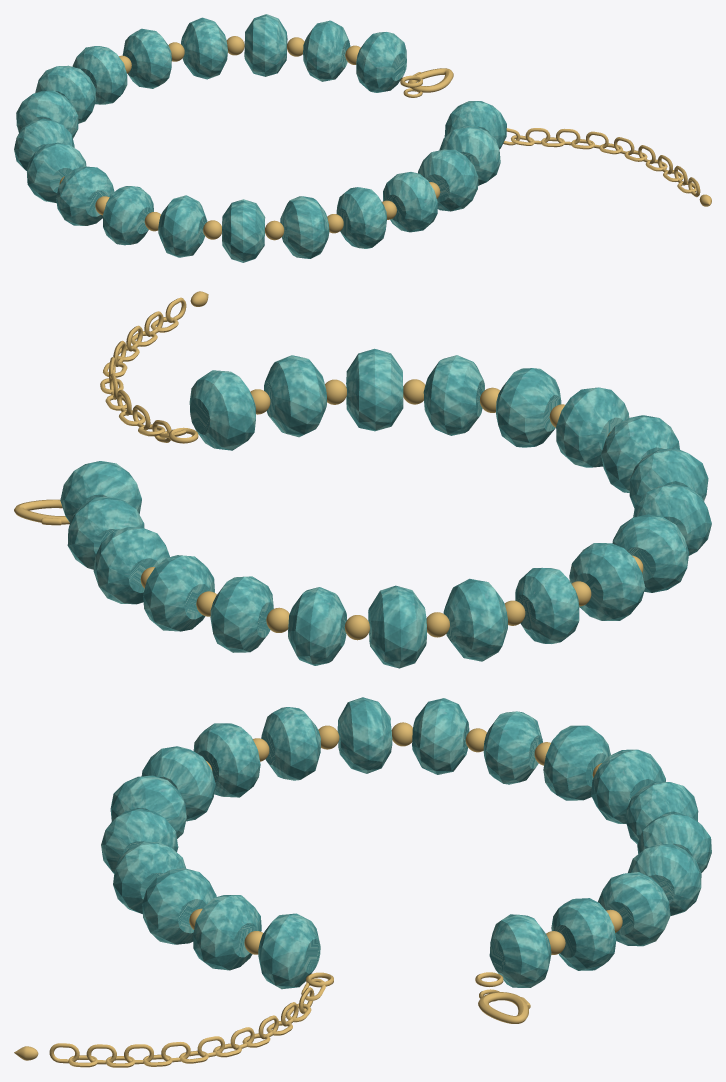
The model's file is standard.glb.
The picture shows the model from 3 angles, top to bottom: view 1: azimuth 30°, elevation 25°; view 2: azimuth 150°, elevation 25°; view 3: azimuth 270°, elevation 25°; orthographic projection. The views are drawn at different scales.
Parts seen in each view (by area): view 1: facet_rondel_2.003, facet_rondel_0, facet_rondel_0.002, facet_rondel_1.003, facet_rondel_0.003, facet_rondel_4.002, facet_rondel_2.002, facet_rondel_1.002, facet_rondel_3.002, facet_rondel_4, facet_rondel_3, facet_rondel_2 (+9 smaller); view 2: facet_rondel_4.003, facet_rondel_4.001, facet_rondel_2.001, facet_rondel_3, facet_rondel_0.003, facet_rondel_2, facet_rondel_4.002, facet_rondel_3.003, facet_rondel_2.003, facet_rondel_1.001, facet_rondel_0.002, facet_rondel_3.001 (+9 smaller); view 3: facet_rondel_2.003, facet_rondel_3.003, facet_rondel_2, facet_rondel_4.003, facet_rondel_2.001, facet_rondel_0, facet_rondel_1, facet_rondel_2.002, facet_rondel_4.001, facet_rondel_1.002, facet_rondel_0.002, facet_rondel_3.001 (+9 smaller).
Boxes of the visible parts, bbox=[...] form: facet_rondel_2.003: bbox=[418, 149, 478, 211]; facet_rondel_0: bbox=[356, 32, 406, 92]; facet_rondel_0.002: bbox=[56, 166, 114, 225]; facet_rondel_1.003: bbox=[382, 172, 437, 232]; facet_rondel_0.003: bbox=[336, 187, 386, 248]; facet_rondel_4.002: bbox=[280, 196, 329, 258]; facet_rondel_2.002: bbox=[158, 195, 207, 257]; facet_rondel_1.002: bbox=[102, 186, 153, 245]; facet_rondel_3.002: bbox=[222, 199, 265, 262]; facet_rondel_4: bbox=[122, 28, 171, 88]; facet_rondel_3: bbox=[181, 17, 227, 79]; facet_rondel_2: bbox=[244, 14, 287, 76]; facet_rondel_4.003: bbox=[189, 370, 255, 450]; facet_rondel_4.001: bbox=[569, 543, 645, 620]; facet_rondel_2.001: bbox=[443, 578, 507, 661]; facet_rondel_3: bbox=[143, 555, 214, 631]; facet_rondel_0.003: bbox=[496, 368, 561, 447]; facet_rondel_2: bbox=[93, 527, 169, 604]; facet_rondel_4.002: bbox=[556, 387, 629, 467]; facet_rondel_3.003: bbox=[264, 355, 326, 437]; facet_rondel_2.003: bbox=[346, 348, 403, 431]; facet_rondel_1.001: bbox=[368, 585, 426, 668]; facet_rondel_0.002: bbox=[612, 514, 689, 592]; facet_rondel_3.001: bbox=[515, 567, 579, 643]; facet_rondel_2.003: bbox=[142, 868, 216, 944]; facet_rondel_3.003: bbox=[193, 895, 261, 970]; facet_rondel_2: bbox=[598, 872, 670, 946]; facet_rondel_4.003: bbox=[258, 913, 320, 989]; facet_rondel_2.001: bbox=[543, 725, 610, 800]; facet_rondel_0: bbox=[489, 914, 551, 987]; facet_rondel_1: bbox=[551, 898, 616, 970]; facet_rondel_2.002: bbox=[193, 723, 260, 797]; facet_rondel_4.001: bbox=[412, 698, 469, 774]; facet_rondel_1.002: bbox=[261, 707, 320, 780]; facet_rondel_0.002: bbox=[337, 697, 392, 773]; facet_rondel_3.001: bbox=[483, 711, 542, 784].
Size of the model in its own units: 7.76 by 0.8432 by 7.27.
Materials: 4 (3 with a texture image).
